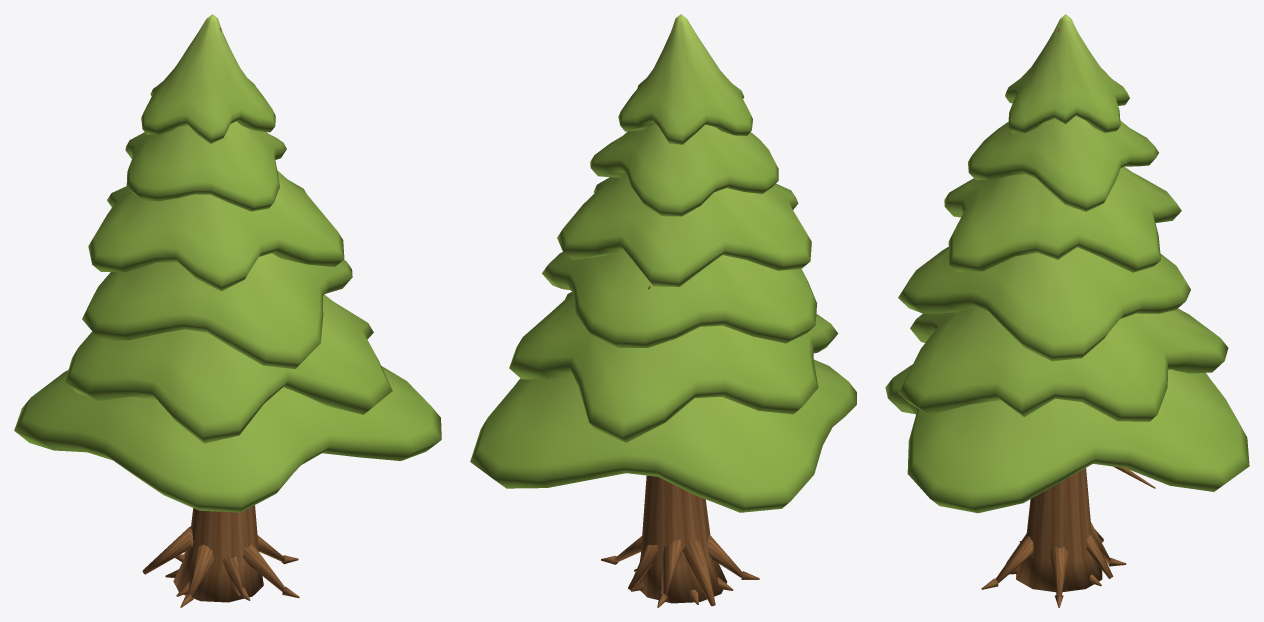
The model's file is SoftPine.fbx.
The picture shows the model from 3 angles, left to right: view 1: azimuth 30°, elevation 25°; view 2: azimuth 150°, elevation 25°; view 3: azimuth 270°, elevation 25°; orthographic projection. The views are drawn at different scales.
Parts seen in each view (by area): view 1: SM_SoftPine_Foliage_LOD0, SM_SoftPine_Bark_LOD0; view 2: SM_SoftPine_Foliage_LOD0, SM_SoftPine_Bark_LOD0; view 3: SM_SoftPine_Foliage_LOD0, SM_SoftPine_Bark_LOD0.
Boxes of the visible parts, x1=… form: SM_SoftPine_Foliage_LOD0: x1=14, y1=14, x2=441, y2=512; SM_SoftPine_Bark_LOD0: x1=142, y1=27, x2=299, y2=607; SM_SoftPine_Foliage_LOD0: x1=470, y1=14, x2=856, y2=512; SM_SoftPine_Bark_LOD0: x1=601, y1=285, x2=759, y2=607; SM_SoftPine_Foliage_LOD0: x1=885, y1=14, x2=1249, y2=513; SM_SoftPine_Bark_LOD0: x1=981, y1=28, x2=1155, y2=607.
Size of what is drawn, in the model's own units: 5.19 by 8.44 by 4.99.
Materials: 2 (2 with a texture image).
